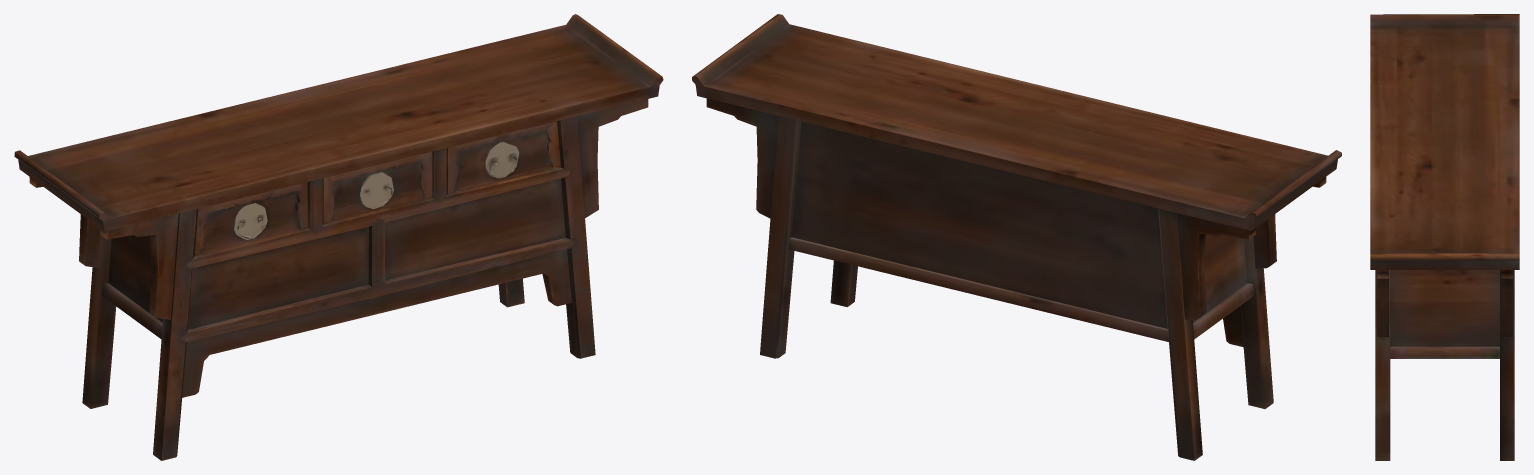
File: chinese_commode.glb
The picture shows the model from 3 angles, left to right: view 1: azimuth 30°, elevation 25°; view 2: azimuth 150°, elevation 25°; view 3: azimuth 270°, elevation 25°; orthographic projection. The views are drawn at different scales.
Parts seen in each view (by area): view 1: chinese_commode; view 2: chinese_commode; view 3: chinese_commode.
Boxes of the visible parts, x1,y1,x2,y2 form: chinese_commode: (14, 14, 663, 460); chinese_commode: (692, 14, 1341, 460); chinese_commode: (1370, 14, 1519, 460).
Bounding box in the file's own units: 4.49 × 2.02 × 1.17.
1 material, 1 textured.
